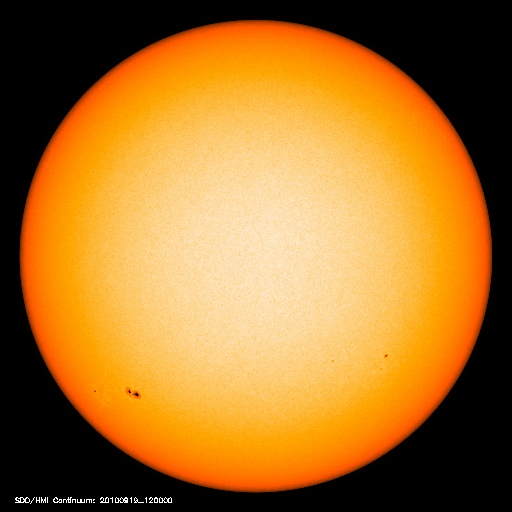sunspot: (87, 381, 152, 405), (374, 340, 395, 378), (322, 349, 346, 374)
